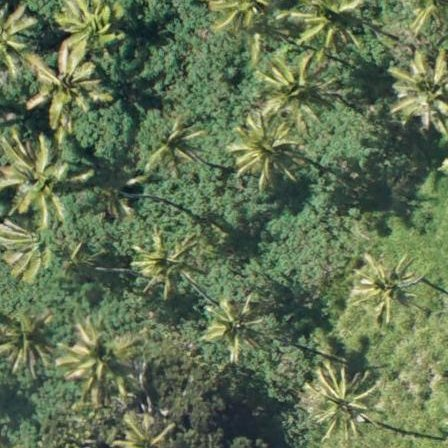palm_tree: (58, 313, 131, 392), (232, 118, 302, 183), (33, 51, 98, 113), (8, 143, 70, 207), (307, 370, 372, 430), (265, 61, 330, 120), (390, 56, 448, 117), (4, 215, 61, 275), (144, 119, 204, 175), (354, 257, 413, 313), (292, 1, 358, 51), (1, 305, 55, 366), (58, 1, 121, 53), (136, 237, 193, 290), (205, 302, 262, 353), (206, 1, 267, 32)
